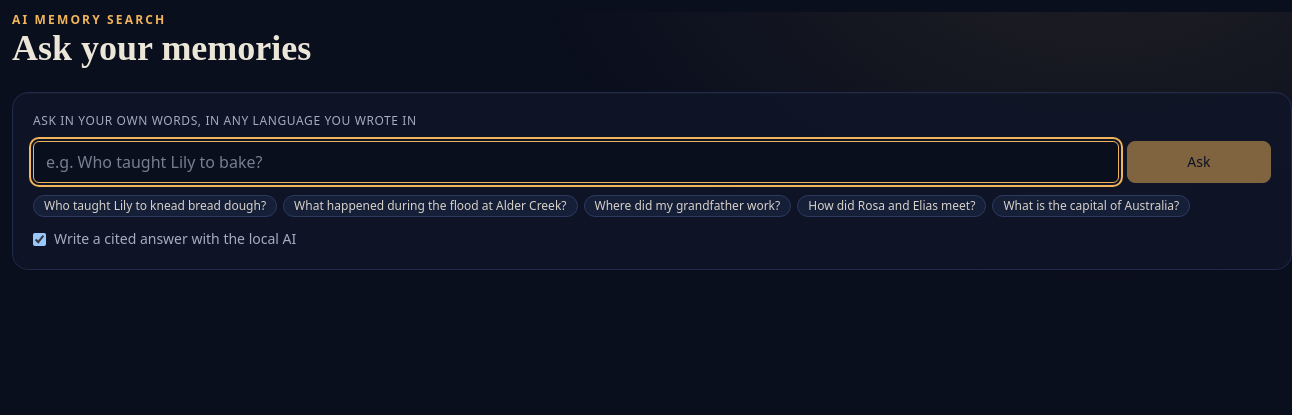
Test: Ask page › explains an unreachable backend instead of failing silently
This screenshot has width=1292, height=415.
Type "anything" into the field labelled "Ask in your own words, in any language you wrote in" at point(576, 162), box [33,141,1119,183]
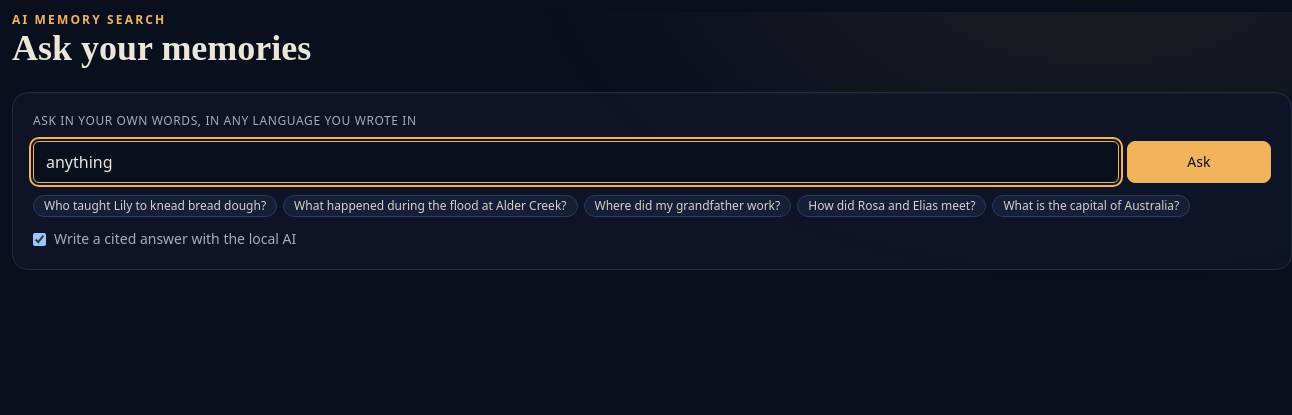
Click the button "Ask" at point(1199, 162), box [1127,141,1271,183]
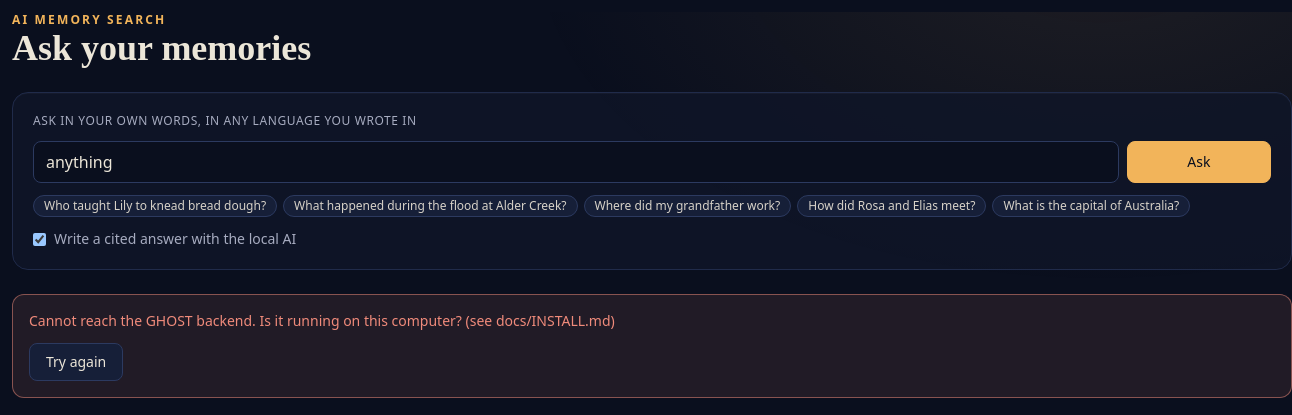
Result: the message shows "Cannot reach the GHOST backend" at [29,311,615,330]
